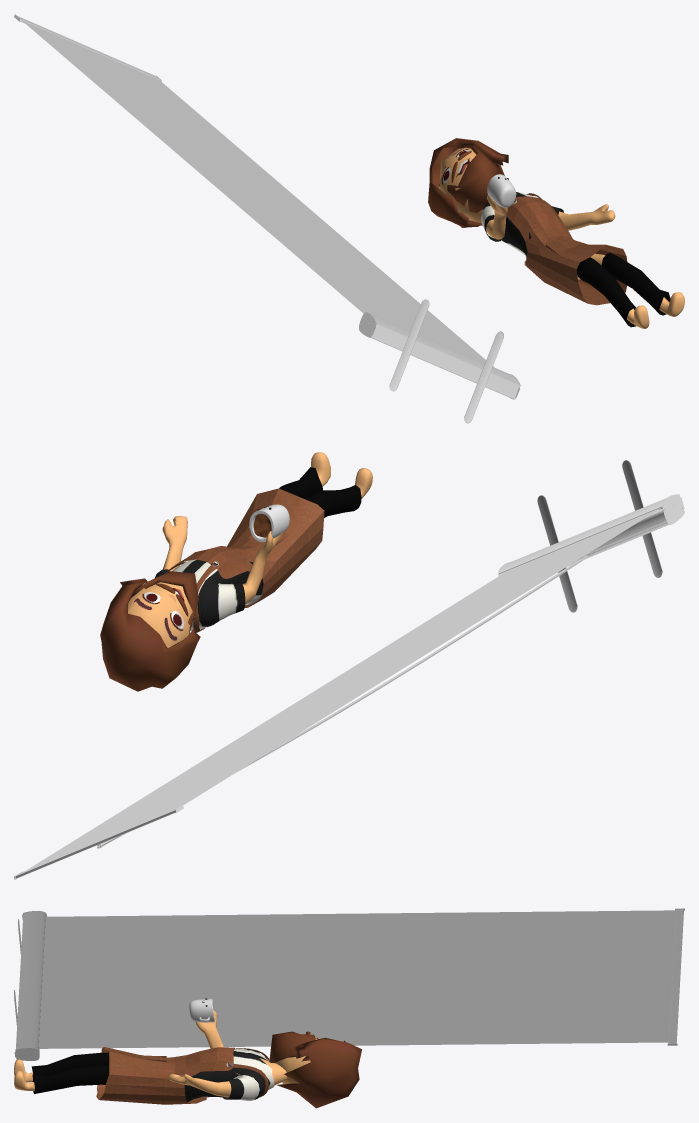
The model's file is GLTF_3_Coffeeman.gltf.
The picture shows the model from 3 angles, top to bottom: view 1: azimuth 30°, elevation 25°; view 2: azimuth 150°, elevation 25°; view 3: azimuth 270°, elevation 25°; orthographic projection. The views are drawn at different scales.
Visible parts, largest first — view 1: Plane, Cube.002_4, Cube_2; view 2: Plane, Cube.002_4, Cube_2; view 3: Plane, Cube.002_4, Cube_2.
Part boxes in pixels (x1,y1,x2,y2): Plane: [14, 14, 520, 423]; Cube.002_4: [428, 138, 684, 328]; Cube_2: [487, 174, 516, 207]; Plane: [14, 460, 684, 879]; Cube.002_4: [100, 452, 372, 691]; Cube_2: [249, 504, 289, 542]; Plane: [14, 908, 684, 1060]; Cube.002_4: [14, 1010, 361, 1108]; Cube_2: [189, 999, 214, 1022].
Size of the model in its own units: 0.0853 by 0.034 by 0.1748.
